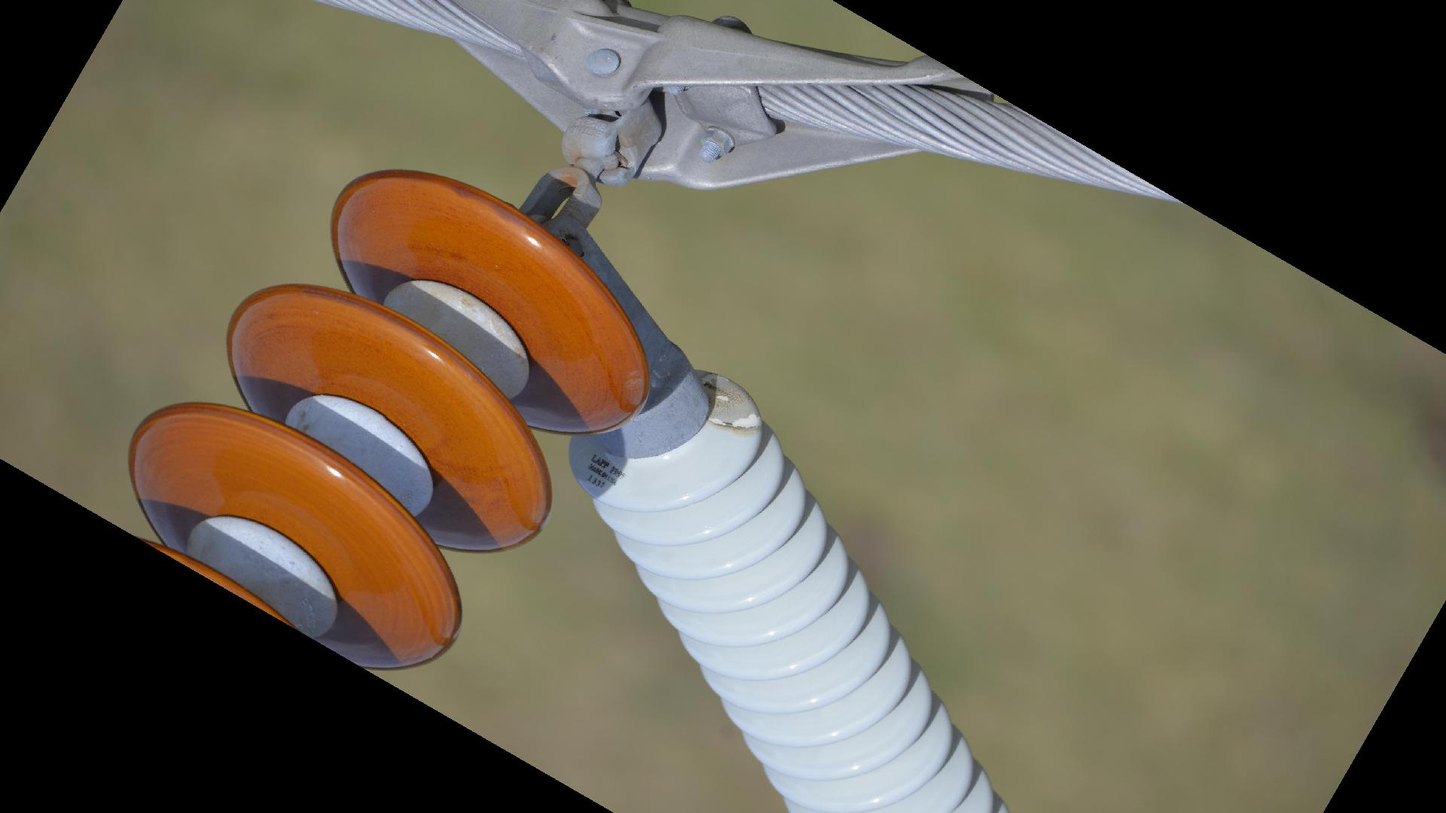insulator: (112, 163, 662, 676), (561, 364, 1011, 813)
insulator_flashover: (688, 365, 764, 433)
